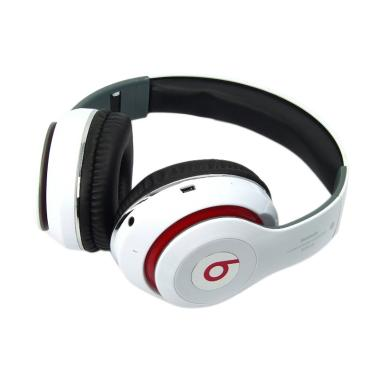Headphone: (31, 67, 358, 320)
